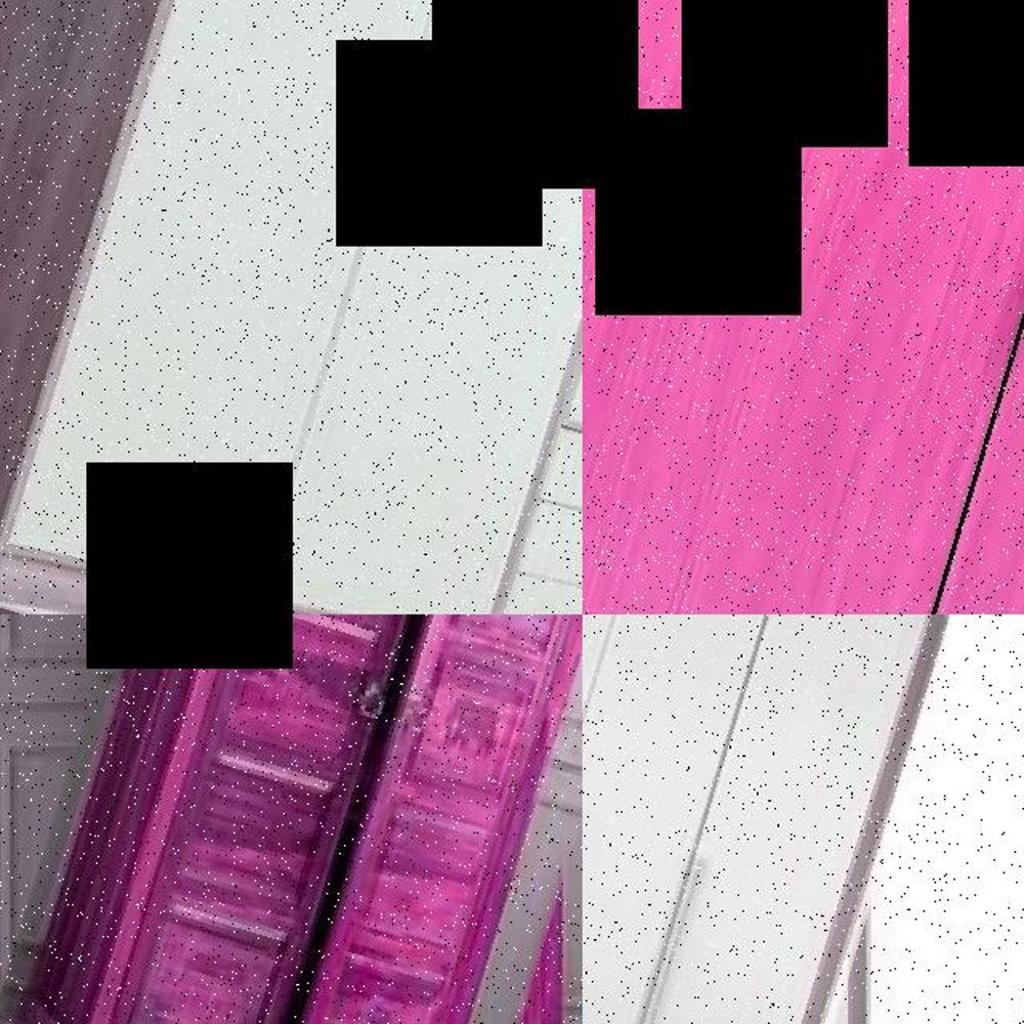cabinet: (0, 0, 582, 614), (582, 0, 1024, 614), (45, 614, 582, 1024), (582, 614, 925, 1024)
